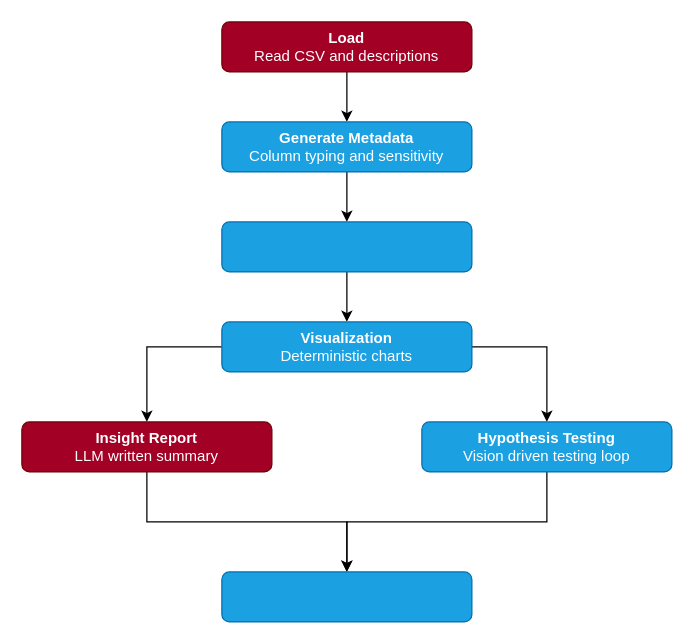
Some shapes in this 694 by 644 pixel diagram are drawn without their labels. Here are the shapes that lost their labels. From the top down, the centre of each, then its label:
point 346,246: Analysis Missing %, Outliers, Correlations
point 346,596: Report Generation Assemble Markdown/Notebook
